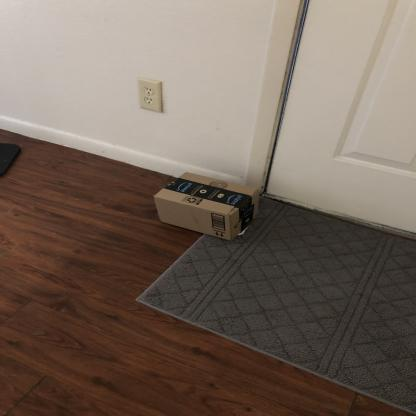package: (147, 170, 268, 244)
